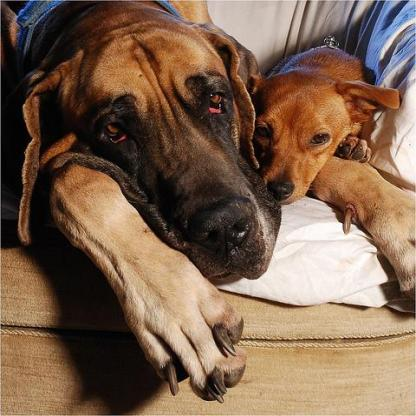Great_Dane: (0, 0, 413, 403)
